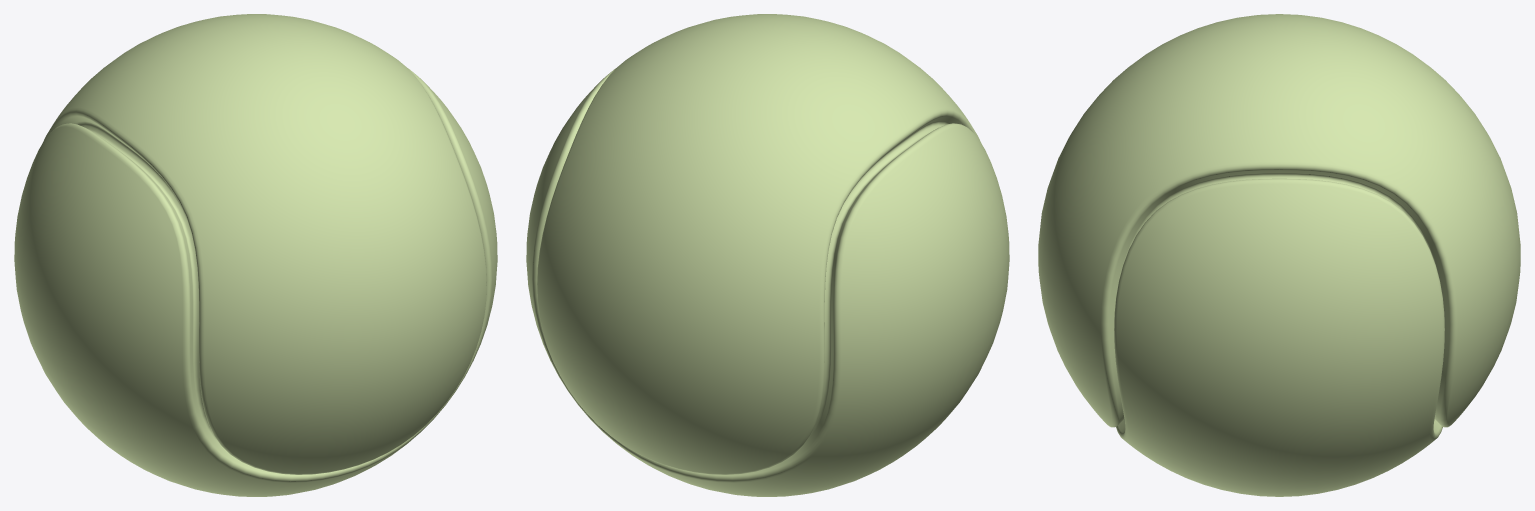
Rendered from rollingBall.fbx.
The picture shows the model from 3 angles, left to right: view 1: azimuth 30°, elevation 25°; view 2: azimuth 150°, elevation 25°; view 3: azimuth 270°, elevation 25°; orthographic projection.
Parts seen in each view (by area): view 1: prop_ball; view 2: prop_ball; view 3: prop_ball.
Boxes of the visible parts, box(x1,y1,x2,y2) form: prop_ball: box(14, 14, 497, 496); prop_ball: box(526, 14, 1009, 496); prop_ball: box(1038, 14, 1520, 496).
Size of the model in its own units: 99.76 by 99.84 by 99.76.
